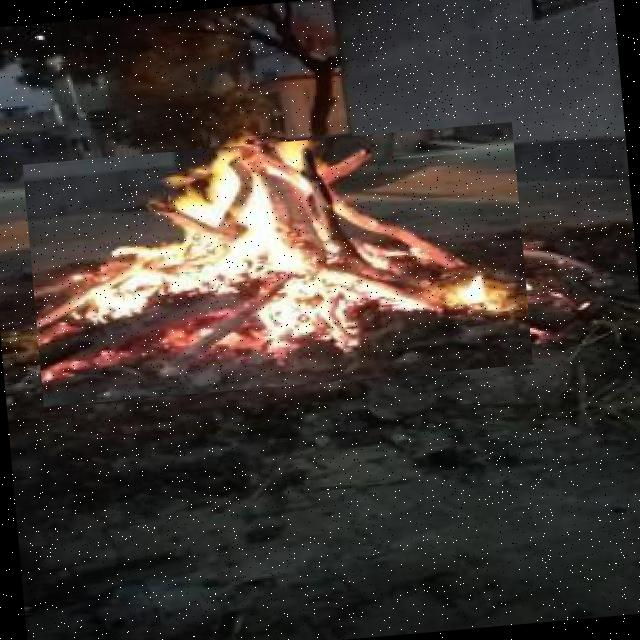fire: (22, 121, 532, 406)
